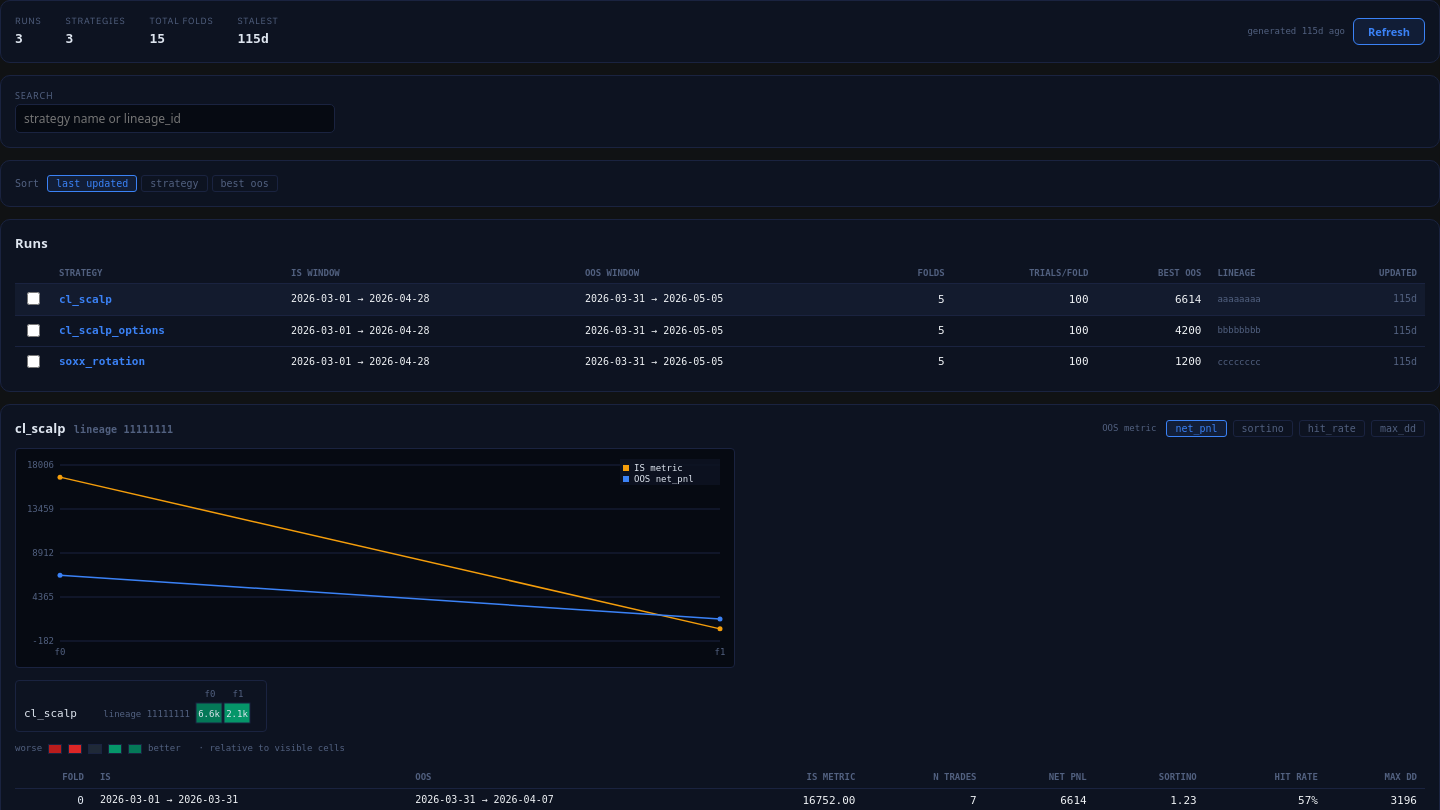
Test: BacktestsTab › shows the no-match state when the query narrows the list to zero
Type "zzzzzzzz-no-match" into the field with placeholder "strategy name or lineage_id" at (175, 119), box [15,104,335,133]
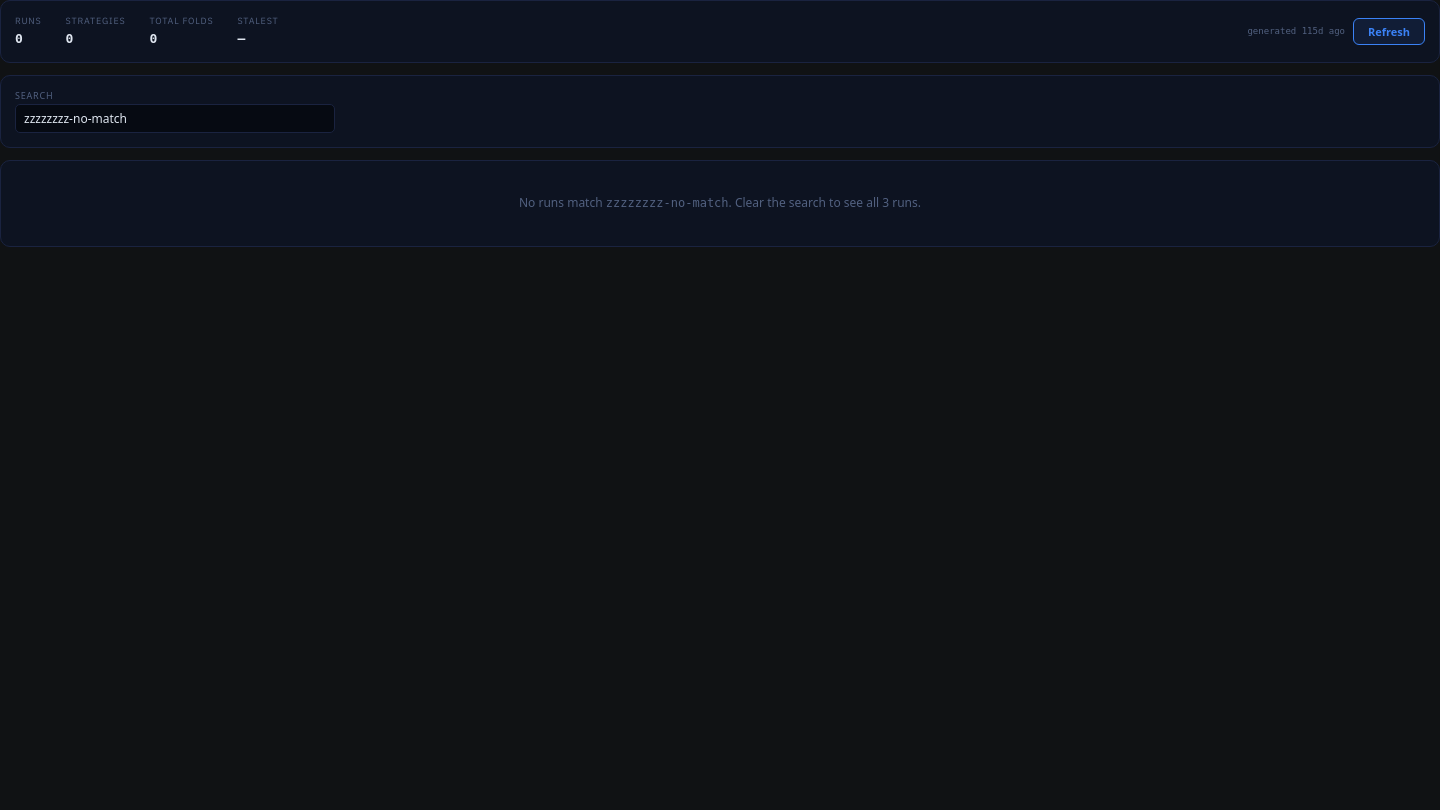
Now the text "No runs match" is shown, box [519,194,606,211]
